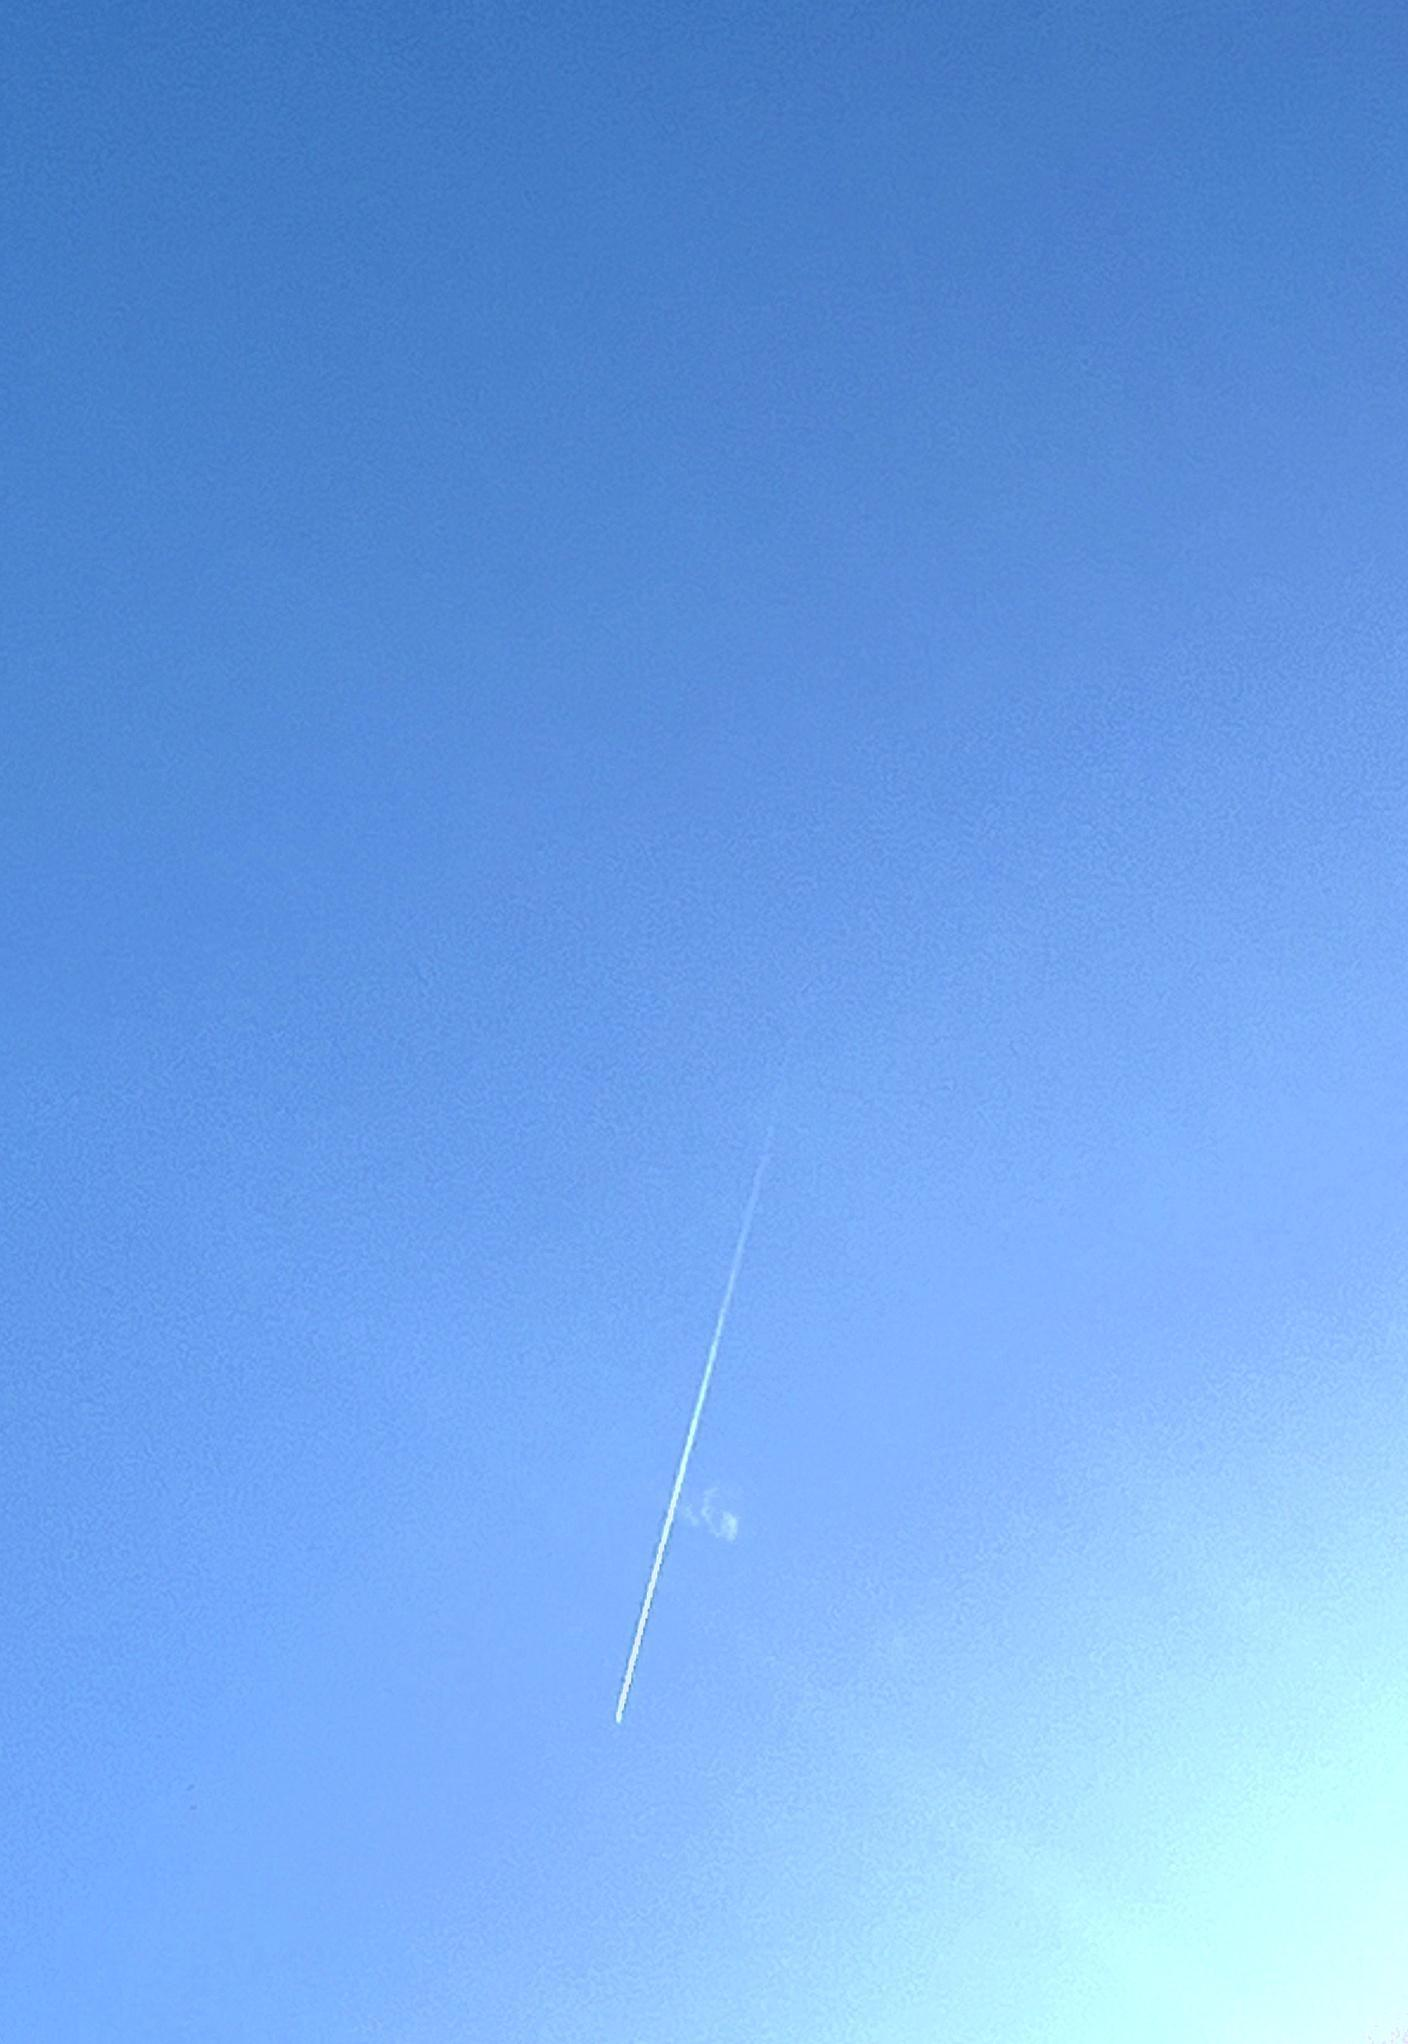Plane: (556, 1107, 824, 1740)
